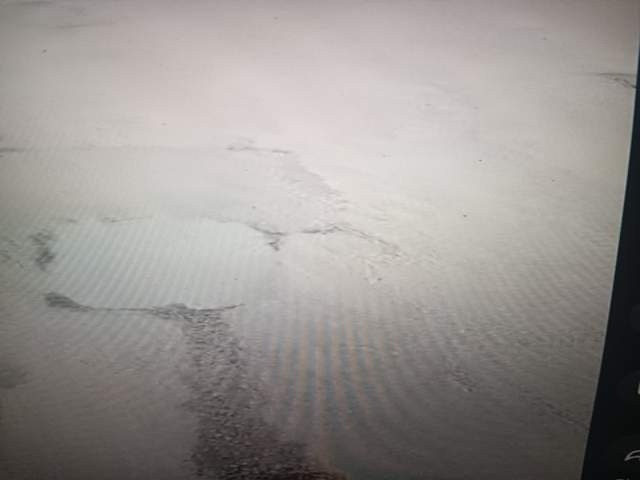pothole: (111, 403, 331, 480)
